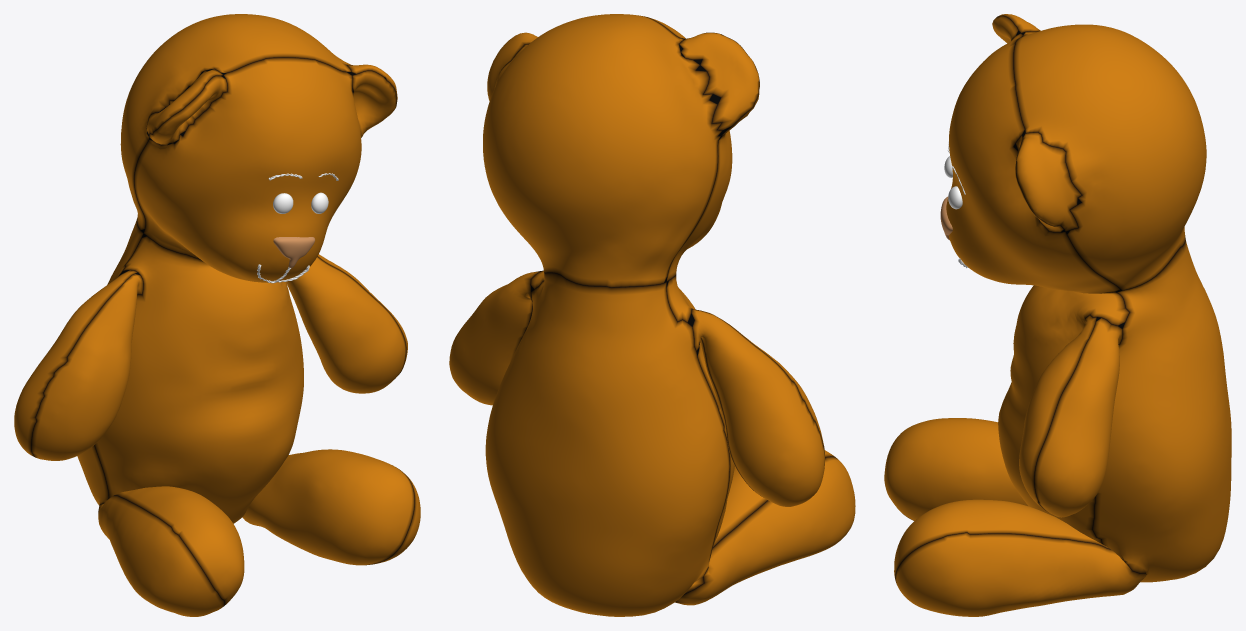
Rendered from Teddy_Bear2.fbx.
3 views of the same model, side by side, from view 1: azimuth 30°, elevation 25°; view 2: azimuth 150°, elevation 25°; view 3: azimuth 270°, elevation 25° (orthographic). The views are drawn at different scales.
Parts seen in each view (by area): view 1: teddy; view 2: teddy; view 3: teddy.
Part boxes in pixels (bbox=[...]): teddy: bbox=[14, 14, 420, 616]; teddy: bbox=[449, 14, 855, 616]; teddy: bbox=[884, 14, 1231, 616].
Size of the model in its own units: 186 by 249 by 143.
